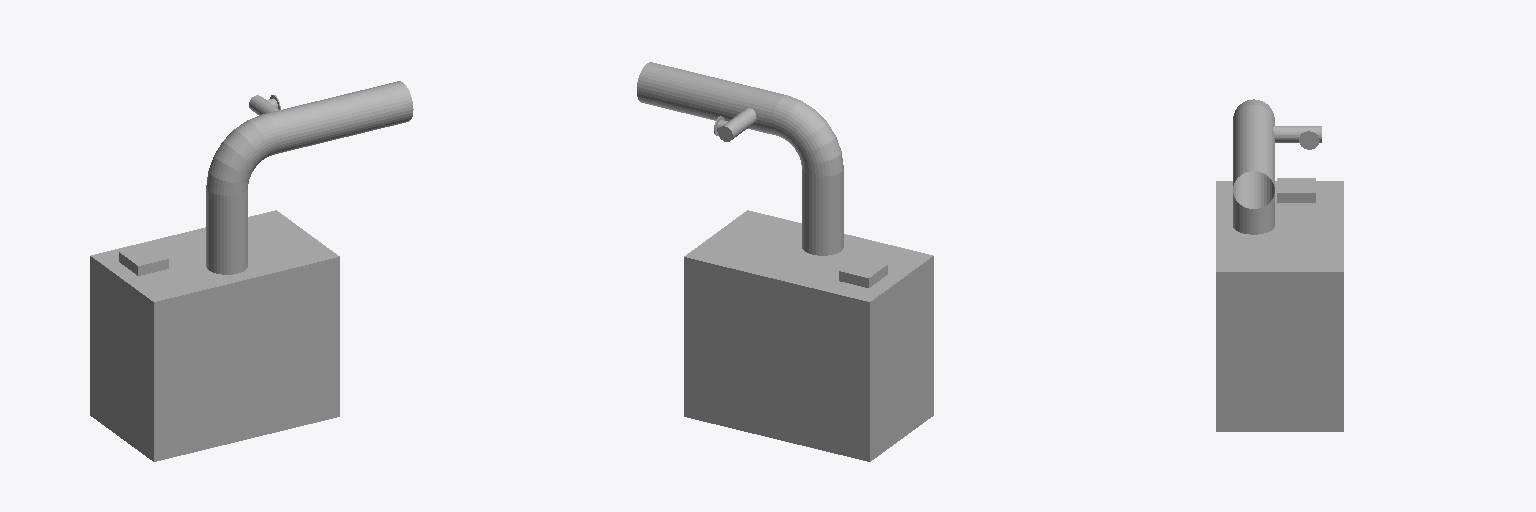
3 views of the same model, side by side, from view 1: azimuth 30°, elevation 25°; view 2: azimuth 150°, elevation 25°; view 3: azimuth 270°, elevation 25° (orthographic).
Parts seen in each view (by area): view 1: gufengjiqinglianghua; view 2: gufengjiqinglianghua; view 3: gufengjiqinglianghua.
Boxes of the visible parts, x1=… form: gufengjiqinglianghua: x1=90, y1=81, x2=413, y2=461; gufengjiqinglianghua: x1=637, y1=62, x2=933, y2=461; gufengjiqinglianghua: x1=1216, y1=99, x2=1343, y2=431.
Size of the model in its own units: 547 by 586 by 225.
1 materials, 1 textured.